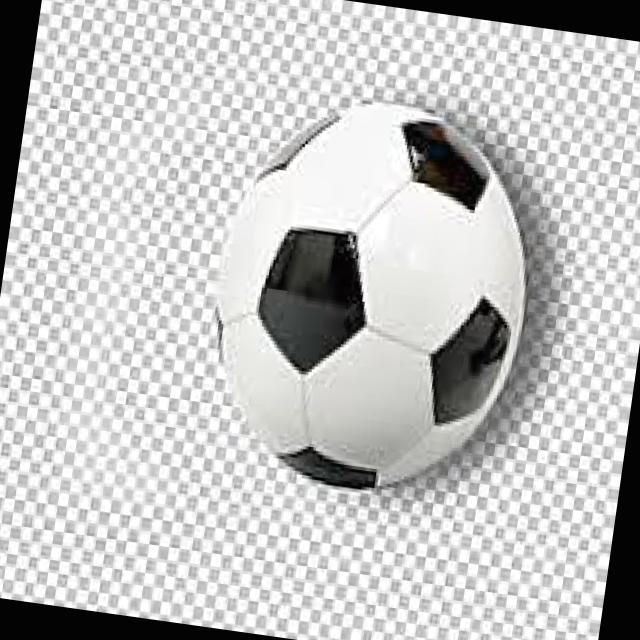Soccer Ball: (193, 87, 550, 512)
